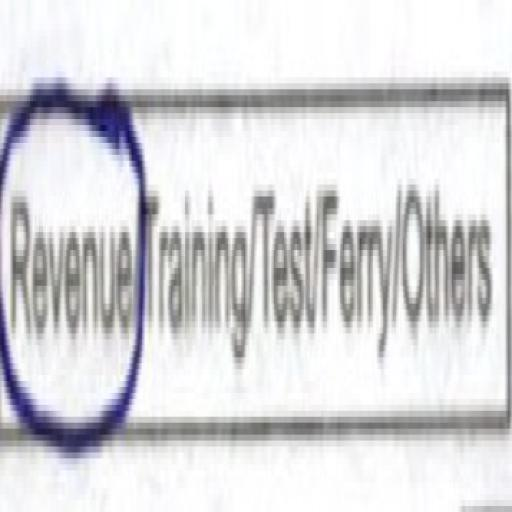check: (1, 12, 144, 512)
